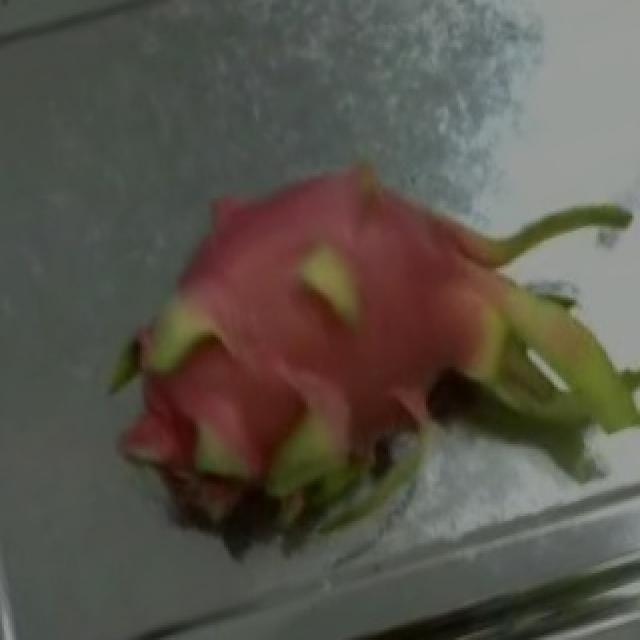fruit: (222, 109, 636, 571), (38, 144, 418, 610)
